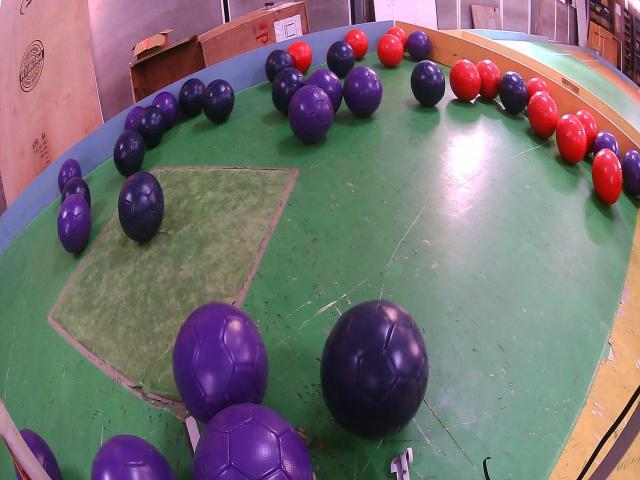jambhalya: (172, 302, 269, 423), (192, 403, 314, 480), (91, 435, 176, 480), (288, 85, 334, 143), (20, 428, 62, 480), (342, 67, 382, 118), (58, 193, 91, 253), (306, 68, 342, 112), (152, 92, 178, 129), (621, 150, 640, 195), (592, 130, 620, 160), (406, 30, 431, 62), (58, 158, 81, 191), (124, 105, 144, 130)
kaalyya: (320, 300, 429, 438), (119, 172, 164, 243), (271, 67, 306, 117), (410, 60, 445, 107), (114, 128, 145, 177), (202, 78, 235, 123), (499, 72, 529, 115), (136, 105, 165, 148), (179, 78, 206, 117), (326, 42, 355, 77), (265, 50, 294, 82), (61, 177, 91, 207)
